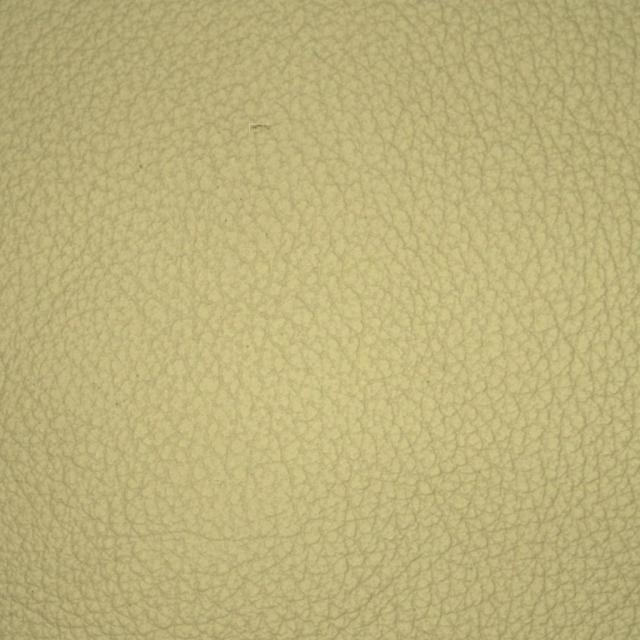Scratch: (160, 92, 380, 175)
